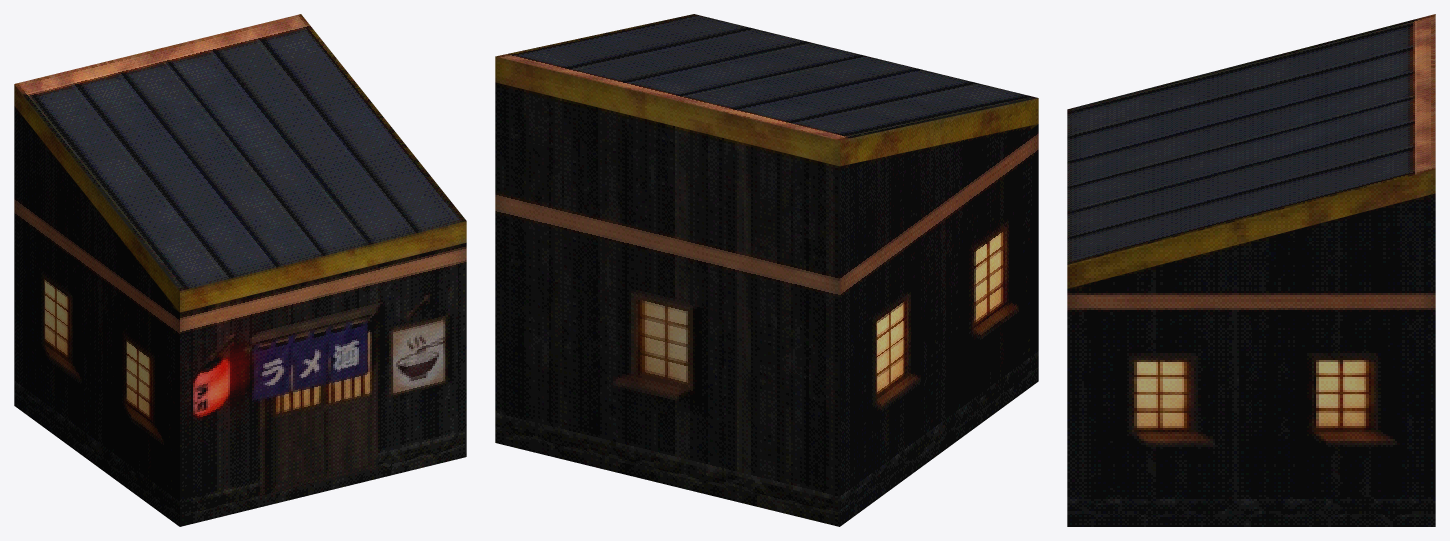
File: ramen.glb
The picture shows the model from 3 angles, left to right: view 1: azimuth 30°, elevation 25°; view 2: azimuth 150°, elevation 25°; view 3: azimuth 270°, elevation 25°; orthographic projection. The views are drawn at different scales.
Visible parts, largest first — view 1: Modern Japanese Ramen; view 2: Modern Japanese Ramen; view 3: Modern Japanese Ramen.
Part boxes in pixels (x1=…): Modern Japanese Ramen: x1=14, y1=14, x2=466, y2=526; Modern Japanese Ramen: x1=495, y1=14, x2=1038, y2=526; Modern Japanese Ramen: x1=1067, y1=14, x2=1435, y2=526.
Bounding box in the file's own units: 7 × 7.5 × 7.
1 material, 1 textured.
